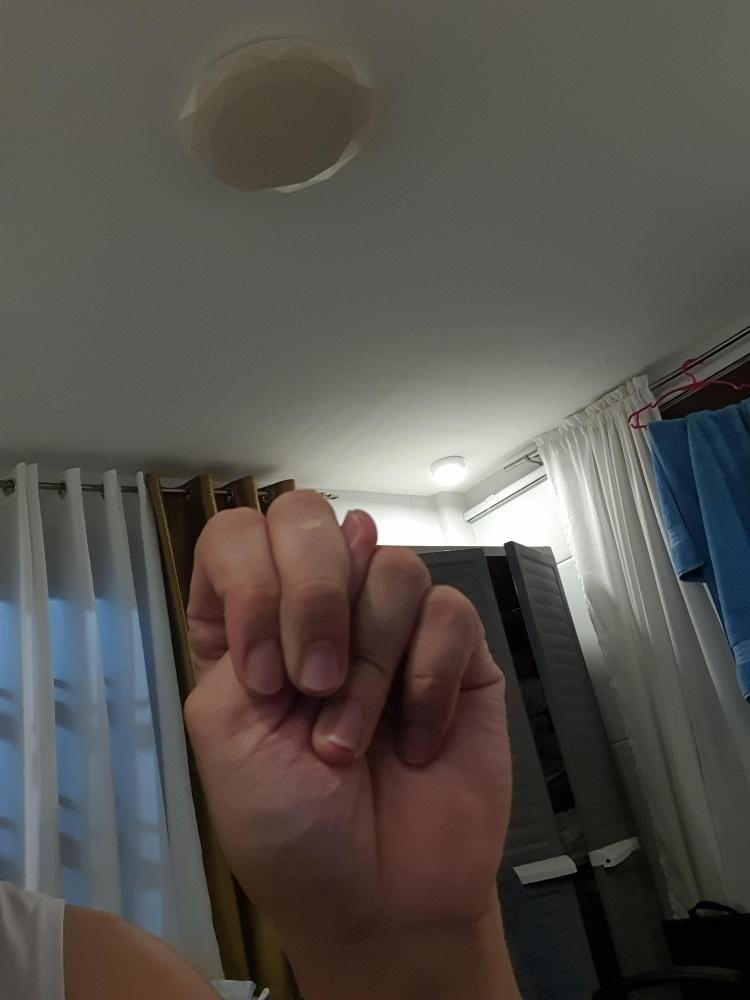n: (177, 481, 517, 936)
